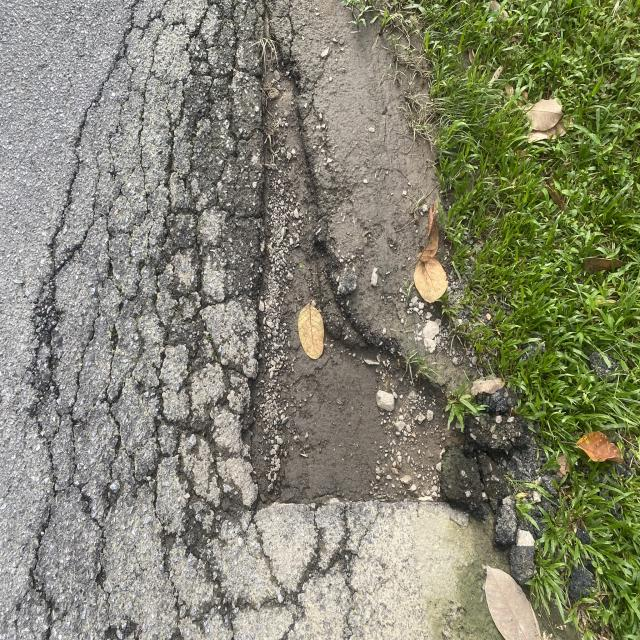Pothole: (235, 31, 440, 602)
